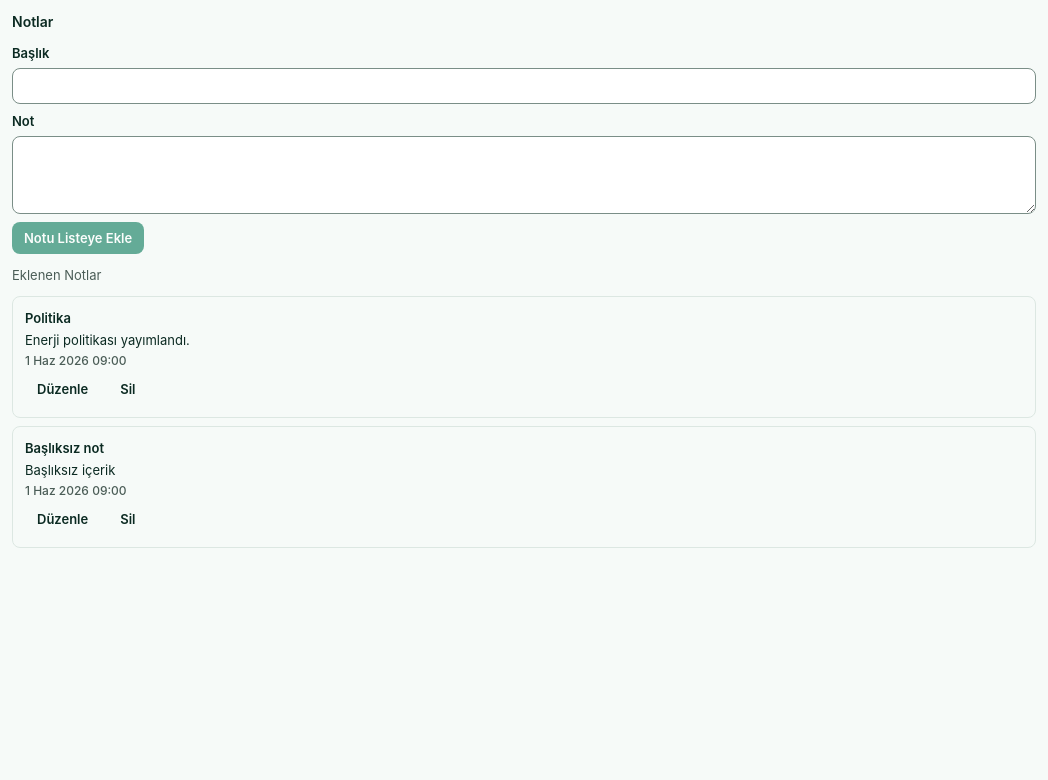
NotesView › edits in place, cancels, and updates
Click the button "Düzenle" below "Enerji politikası yayımlandı.". click: [63, 389]
box: [25,373,100,405]
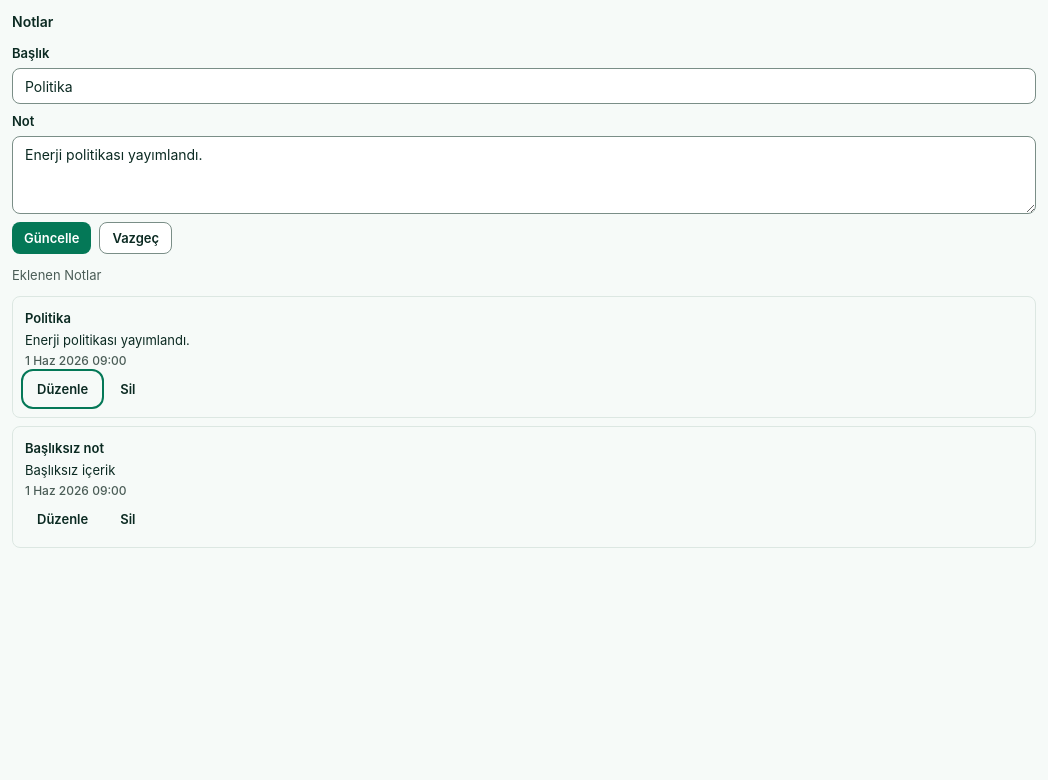
Replace the text in the text box labelled "Not" with "Güncel". click: [524, 175]
box: [12,136,1036,214]
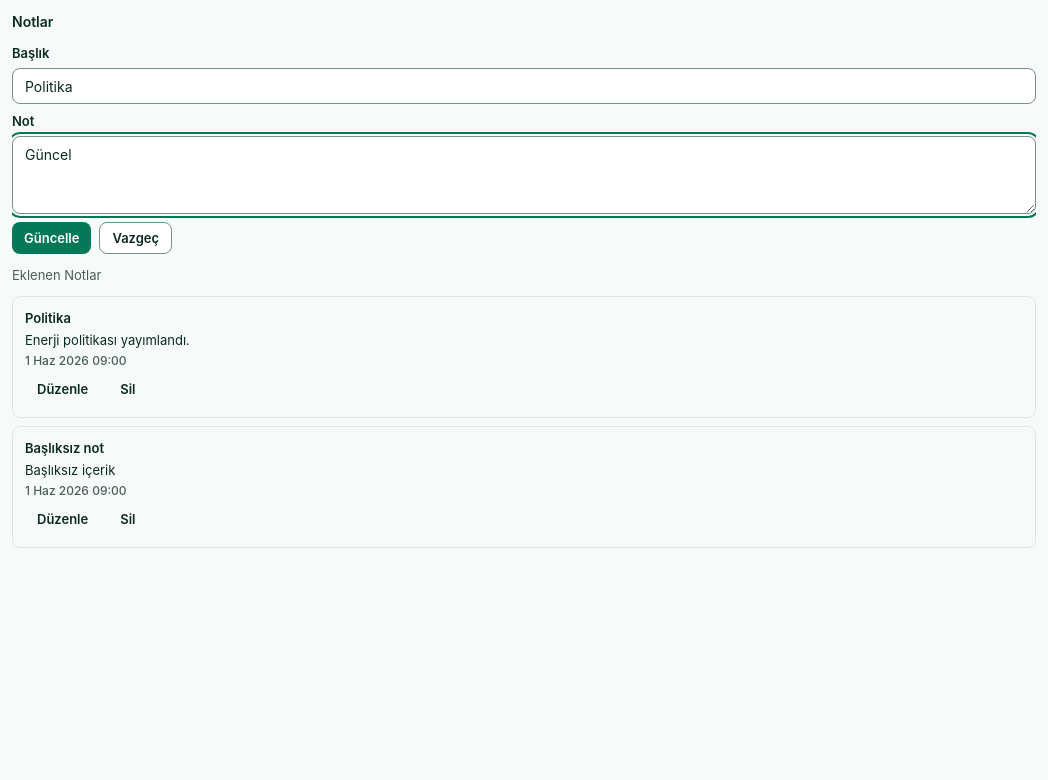
Click the button "Güncelle". click: [52, 238]
box: [12,222,91,254]
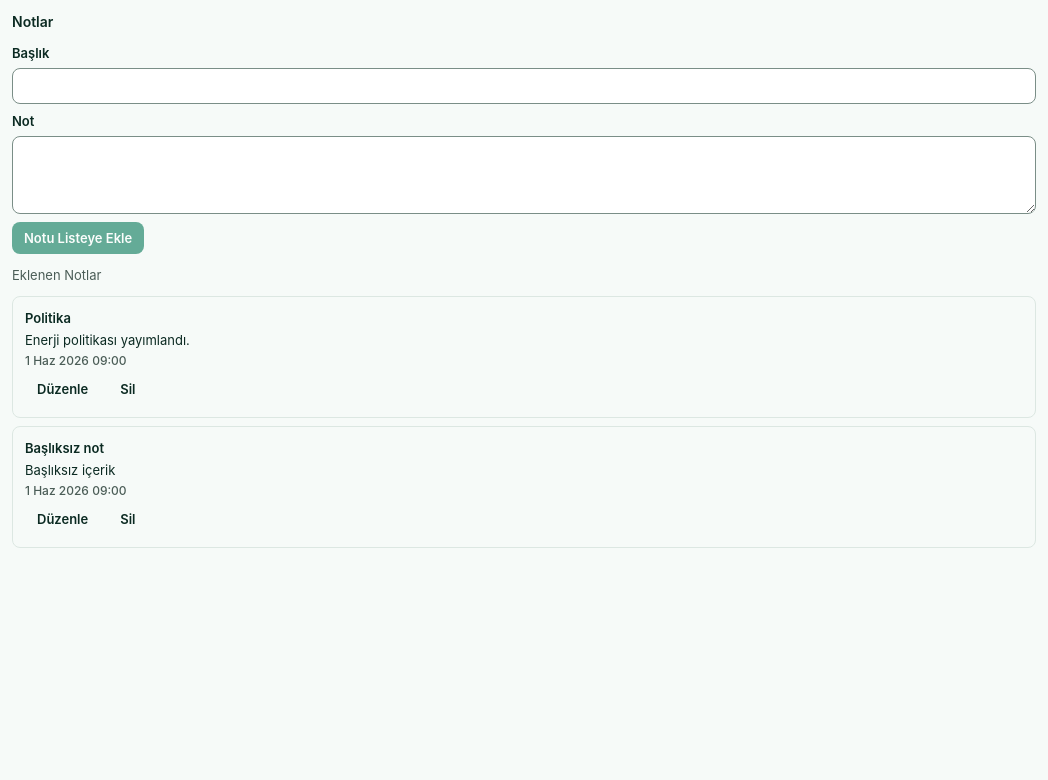
Click the button "Düzenle" below "Enerji politikası yayımlandı.". click: [63, 389]
box: [25,373,100,405]
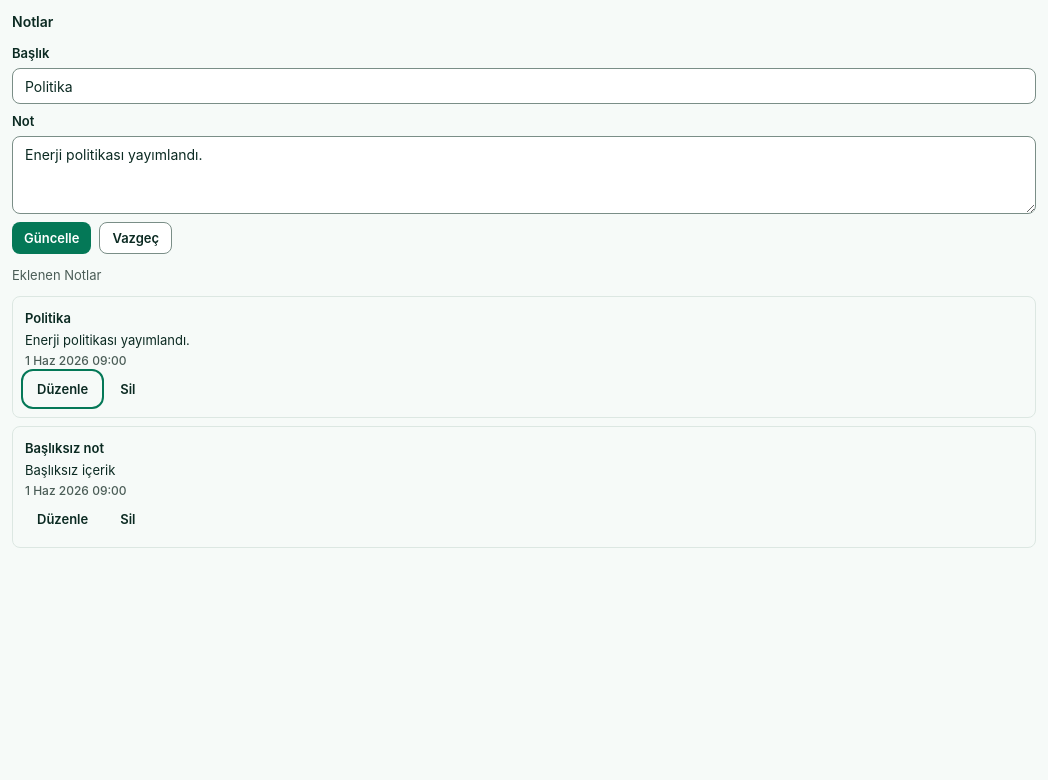
Click the button "Vazgeç". click: [136, 238]
box: [99,222,172,254]
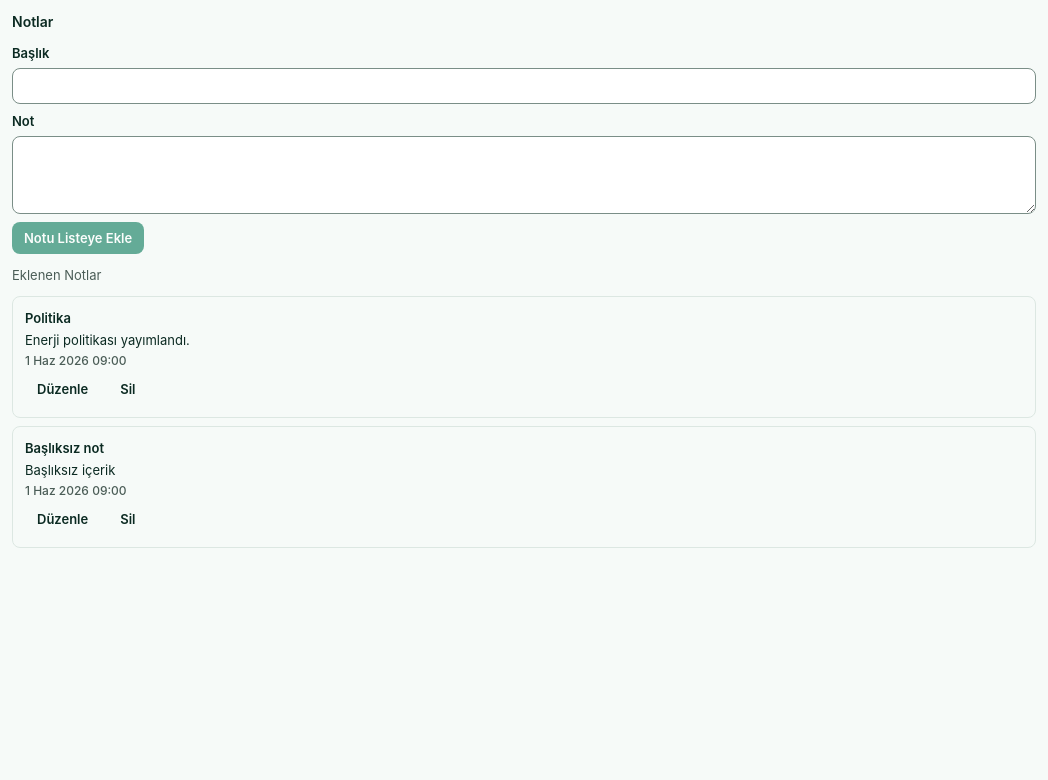
Expected: the button "Güncelle" is gone
